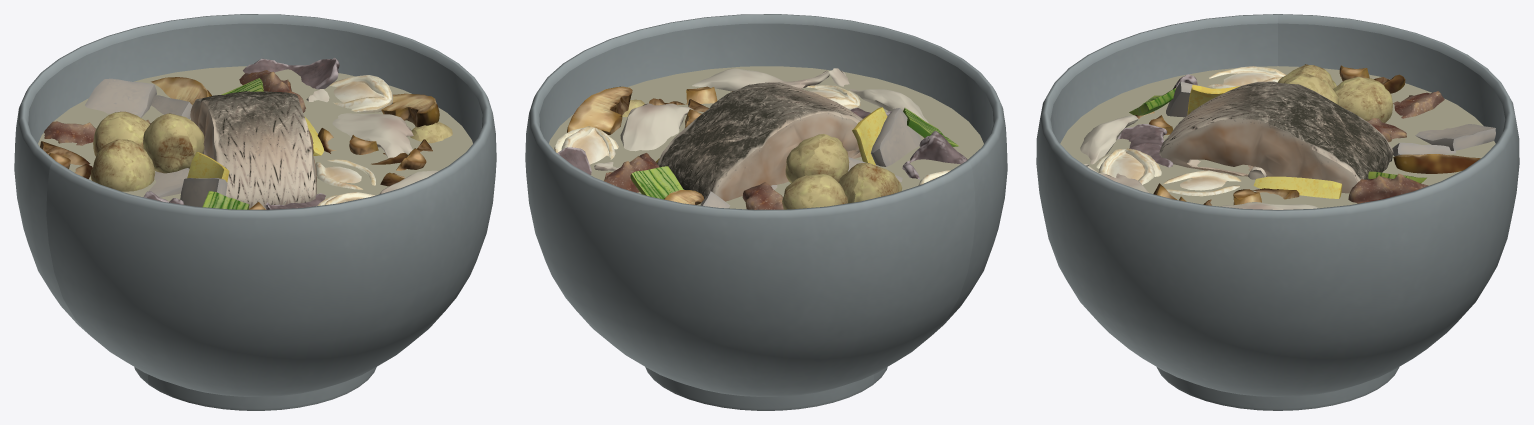
The model's file is chinese.glb.
The picture shows the model from 3 angles, left to right: view 1: azimuth 30°, elevation 25°; view 2: azimuth 150°, elevation 25°; view 3: azimuth 270°, elevation 25°; orthographic projection.
Parts seen in each view (by area): view 1: Object_4; view 2: Object_4; view 3: Object_4.
Boxes of the visible parts, <box> form: Object_4: <box>14,14,496,410</box>; Object_4: <box>525,14,1007,410</box>; Object_4: <box>1036,14,1519,410</box>.
Bounding box in the file's own units: 20.38 × 12.13 × 20.39.
1 material, 1 textured.
